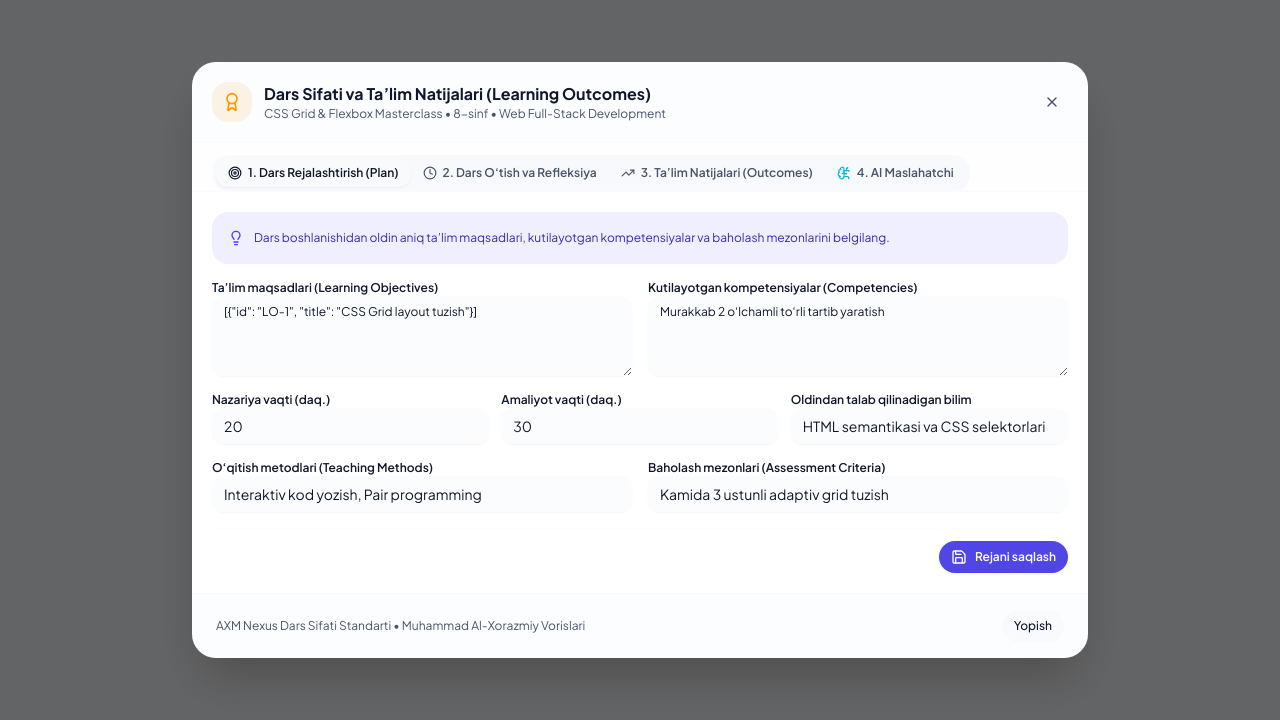
Test: Section 25: LessonQualityModal Component Tests › allows switching to Delivery & Reflection tab and viewing mentor reflection fields
The width and height of the screenshot is (1280, 720).
Expected: the text "CSS Grid & Flexbox Masterclass" is shown, [264,106,443,121]
Click the button "2. Dars O‘tish va Refleksiya". click: (510, 173)
box: [410,159,609,187]
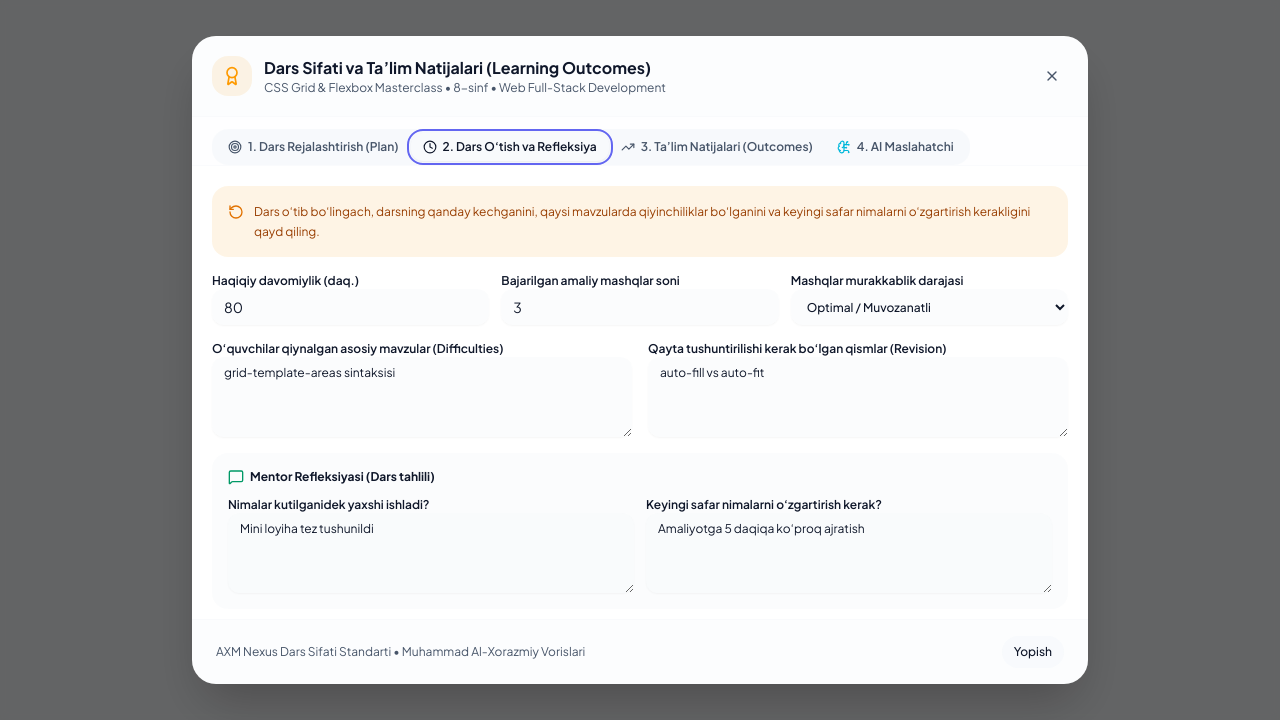
Now the text "Haqiqiy davomiylik (daq.)" is shown, box [212,273,359,288]
Now the text "Mentor Refleksiyasi (Dars tahlili)" is shown, box [250,469,435,485]
